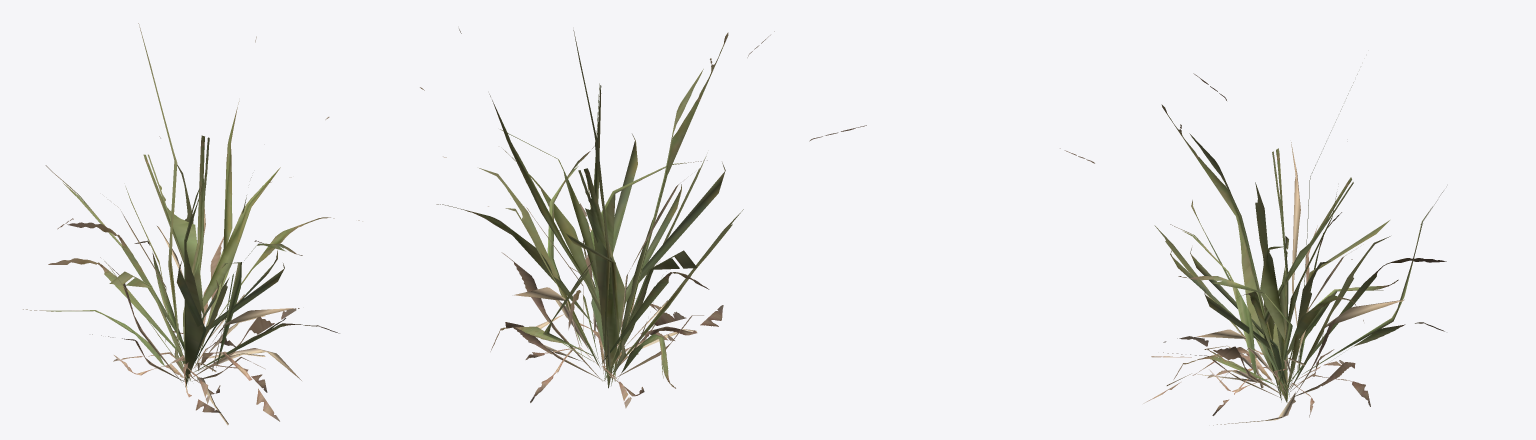
3 renders of one model, left to right at view 1: azimuth 30°, elevation 25°; view 2: azimuth 150°, elevation 25°; view 3: azimuth 270°, elevation 25°, orthographic. The views are drawn at different scales.
Parts seen in each view (by area): view 1: grass_medium_02__d_lod1; view 2: grass_medium_02__d_lod1; view 3: grass_medium_02__d_lod1.
Boxes of the visible parts, x1,y1,x2,y2 form: grass_medium_02__d_lod1: (23, 23, 362, 425); grass_medium_02__d_lod1: (420, 29, 866, 408); grass_medium_02__d_lod1: (1060, 73, 1446, 425).
Bounding box in the file's own units: 0.3013 × 0.2451 × 0.2997.
Materials: 1 (1 with a texture image).
